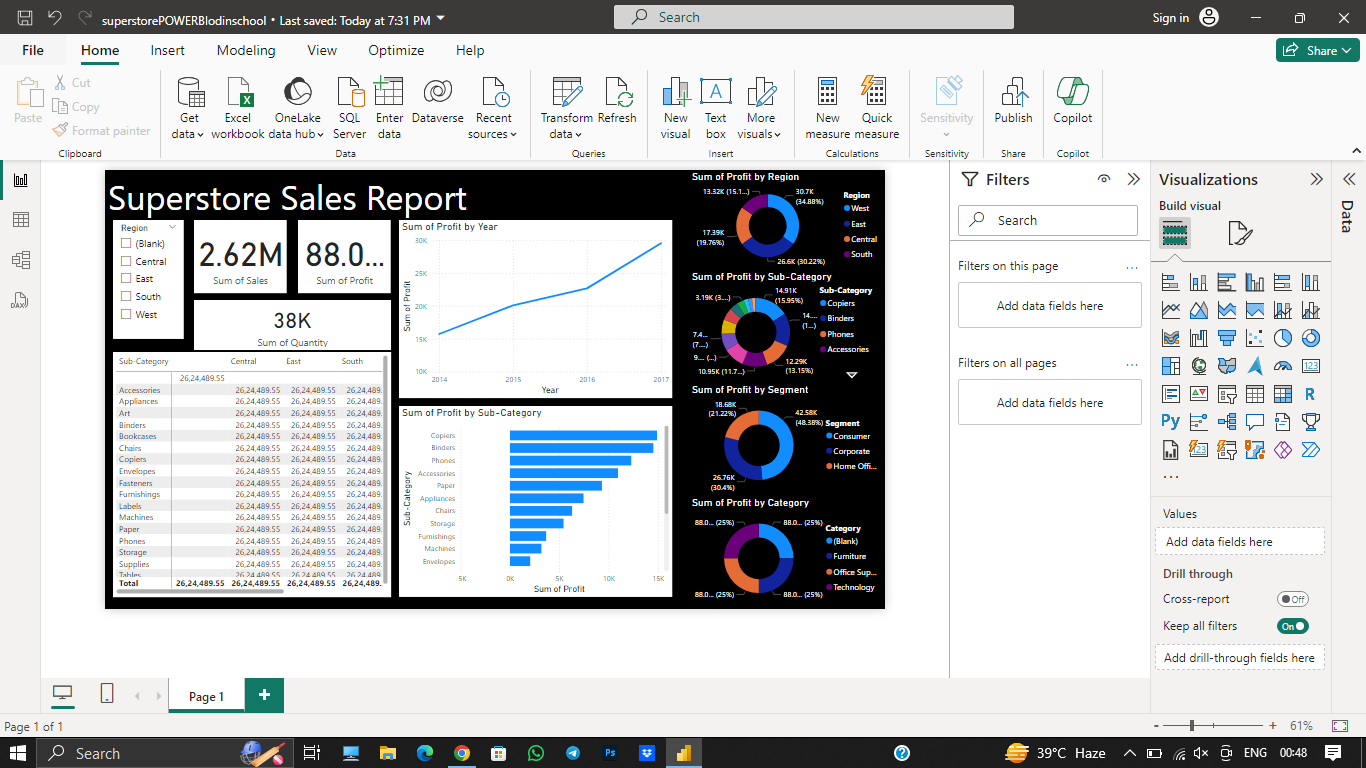

This screenshot's page, from the dashboard's own definition file:
{"tool":"powerbi","page":{"name":"Superstore Sales","canvas":[1280,720],"ordinal":0},"visuals":[{"type":"textbox","box":[0,0,854.1,137.7],"z":0},{"type":"donutChart","fields":{"Category":["Orders.Category"],"Y":["Sum(Orders (3).Profit)"]},"box":[957.4,534.4,323,185.2],"z":1000},{"type":"donutChart","fields":{"Category":["Orders (3).Segment"],"Y":["Sum(Orders (3).Profit)"]},"box":[957.4,349.2,323,185.2],"z":2000},{"type":"donutChart","fields":{"Category":["Orders (3).Sub-Category"],"Y":["Sum(Orders (3).Profit)"]},"box":[957.4,163.9,323,185.2],"z":3000},{"type":"donutChart","fields":{"Category":["Orders (3).Region"],"Y":["Sum(Orders (3).Profit)"]},"box":[957.4,0,323,163.9],"z":4000},{"type":"barChart","fields":{"Category":["Orders (3).Sub-Category"],"Y":["Sum(Orders (3).Profit)"]},"box":[482,386.9,447.5,313.1],"z":5000},{"type":"lineChart","fields":{"Category":["Orders (3).Order Date.Variation.Date Hierarchy.Year","Orders (3).Order Date.Variation.Date Hierarchy.Quarter"],"Y":["Sum(Orders (3).Profit)"]},"box":[482,82,447.5,291.8],"z":6000},{"type":"slicer","fields":{"Values":["Orders (3).Region"]},"box":[13.1,82,116.4,195.1],"z":7000},{"type":"pivotTable","fields":{"Rows":["Orders (3).Sub-Category"],"Columns":["Orders (3).Region"],"Values":["Sum(Orders (4).Sales)"]},"box":[13.1,298.4,455.7,401.6],"z":8000},{"type":"card","fields":{"Values":["Sum(Orders (4).Sales)"]},"box":[145.9,82,152.5,119.7],"z":9000},{"type":"card","fields":{"Values":["Sum(Orders (4).Profit)"]},"box":[316.4,82,152.5,119.7],"z":10000},{"type":"card","fields":{"Values":["Sum(Orders (4).Quantity)"]},"box":[145.9,213.1,323,82],"z":11000}]}

Visuals, with their boxes on the page's 1280x720 design canvas (x1, y1, x2, y2). These are canvas units, not pixel positions in the 1366x768 screenshot, which may show the page scaled, cropped or inside an application window:
textbox: [0, 0, 854, 138]
donutChart - Orders.Category x Sum(Orders (3).Profit): [957, 534, 1280, 720]
donutChart - Orders (3).Segment x Sum(Orders (3).Profit): [957, 349, 1280, 534]
donutChart - Orders (3).Sub-Category x Sum(Orders (3).Profit): [957, 164, 1280, 349]
donutChart - Orders (3).Region x Sum(Orders (3).Profit): [957, 0, 1280, 164]
barChart - Orders (3).Sub-Category x Sum(Orders (3).Profit): [482, 387, 930, 700]
lineChart - Orders (3).Order Date.Variation.Date Hierarchy.Year x Orders (3).Order Date.Variation.Date Hierarchy.Quarter: [482, 82, 930, 374]
slicer - Orders (3).Region: [13, 82, 130, 277]
pivotTable - Orders (3).Sub-Category x Orders (3).Region: [13, 298, 469, 700]
card - Sum(Orders (4).Sales): [146, 82, 298, 202]
card - Sum(Orders (4).Profit): [316, 82, 469, 202]
card - Sum(Orders (4).Quantity): [146, 213, 469, 295]
